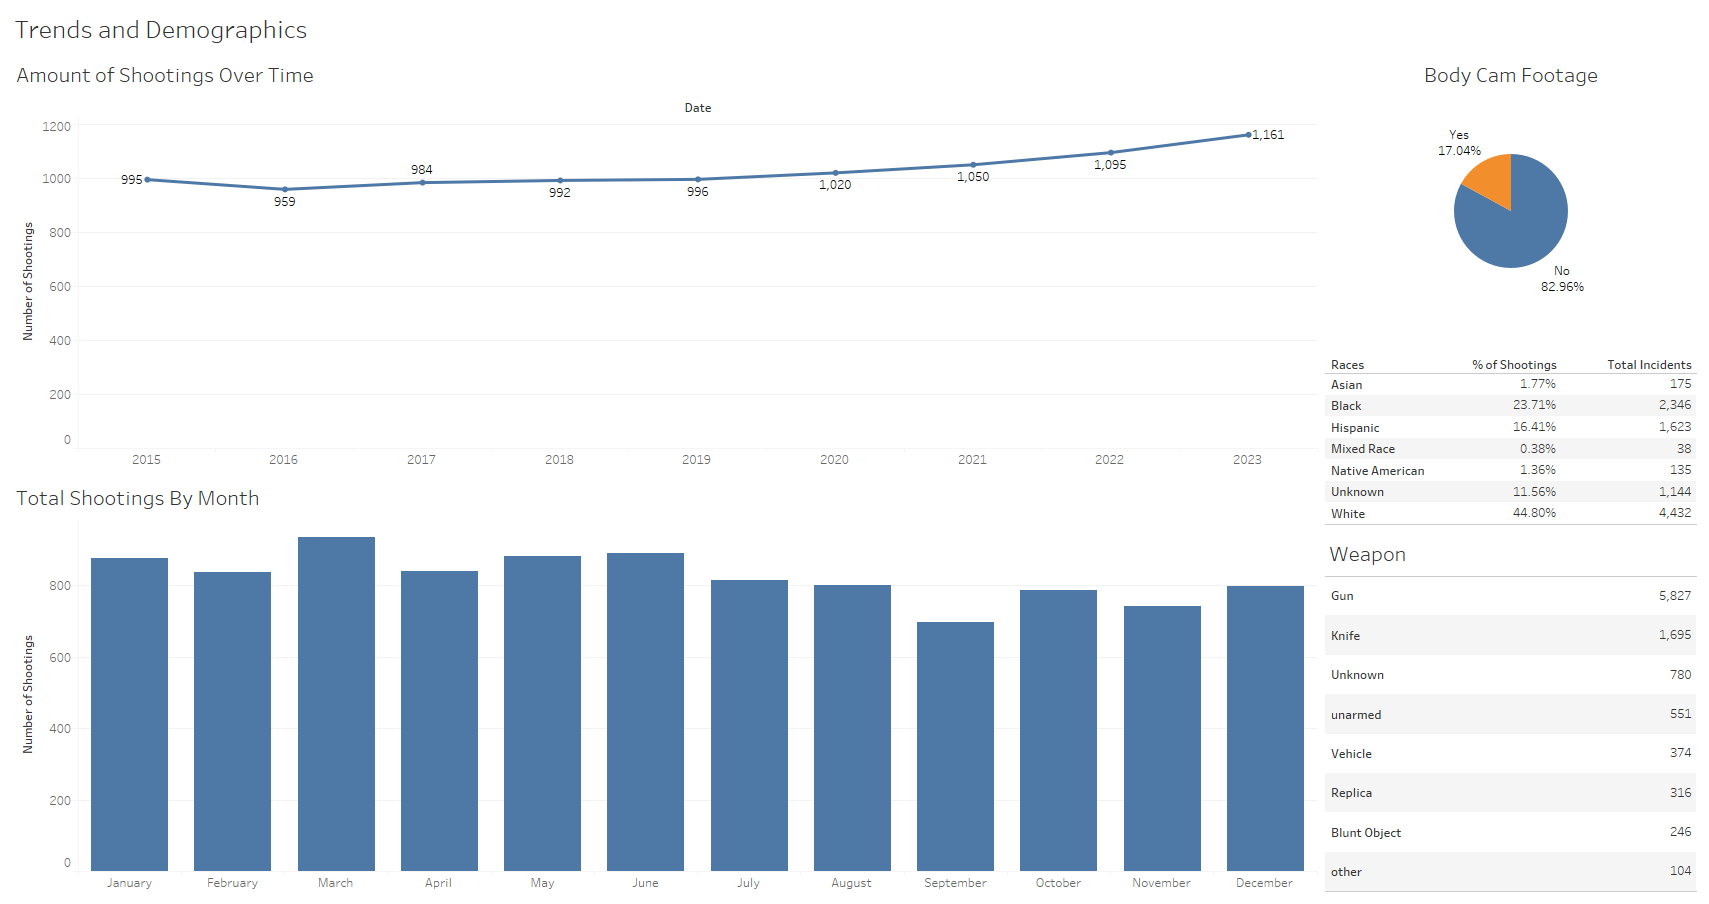

This screenshot's page, from the dashboard's own definition file:
{"tool":"tableau","page":{"name":"Trends Dashboard","canvas":[1000,1000],"units":"permille","ordinal":1},"visuals":[{"type":"title","box":[4.7,8.8,990.6,46.5]},{"type":"worksheet","title":"Incidents Line Chart","mark":"Automatic","rows":["date"],"cols":["date"],"box":[4.7,55.3,768.2,467.9]},{"type":"worksheet","title":"Body Cam Footage","mark":"Pie","box":[772.9,55.3,222.5,308.8]},{"type":"worksheet","title":"Racial Makeup","mark":"Automatic","box":[772.9,364.1,222.5,221.3]},{"type":"worksheet","title":"Months","mark":"Bar","rows":["date"],"cols":["date"],"box":[4.7,523.2,768.2,467.9]},{"type":"worksheet","title":"Weapon","mark":"Automatic","box":[772.9,585.4,222.5,405.8]}]}

Visuals, with their boxes on the dashboard's canvas, which has no fixed pixel size, in thousandths of its width and height (x1, y1, x2, y2). These are canvas units, not pixel positions in the 1709x904 screenshot, which may show the page scaled, cropped or inside an application window:
title: locate(5, 9, 995, 55)
"Incidents Line Chart" worksheet: locate(5, 55, 773, 523)
"Body Cam Footage" worksheet (Pie marks): locate(773, 55, 995, 364)
"Racial Makeup" worksheet: locate(773, 364, 995, 585)
"Months" worksheet (Bar marks): locate(5, 523, 773, 991)
"Weapon" worksheet: locate(773, 585, 995, 991)
